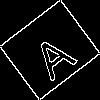A: (25, 25, 79, 82)
